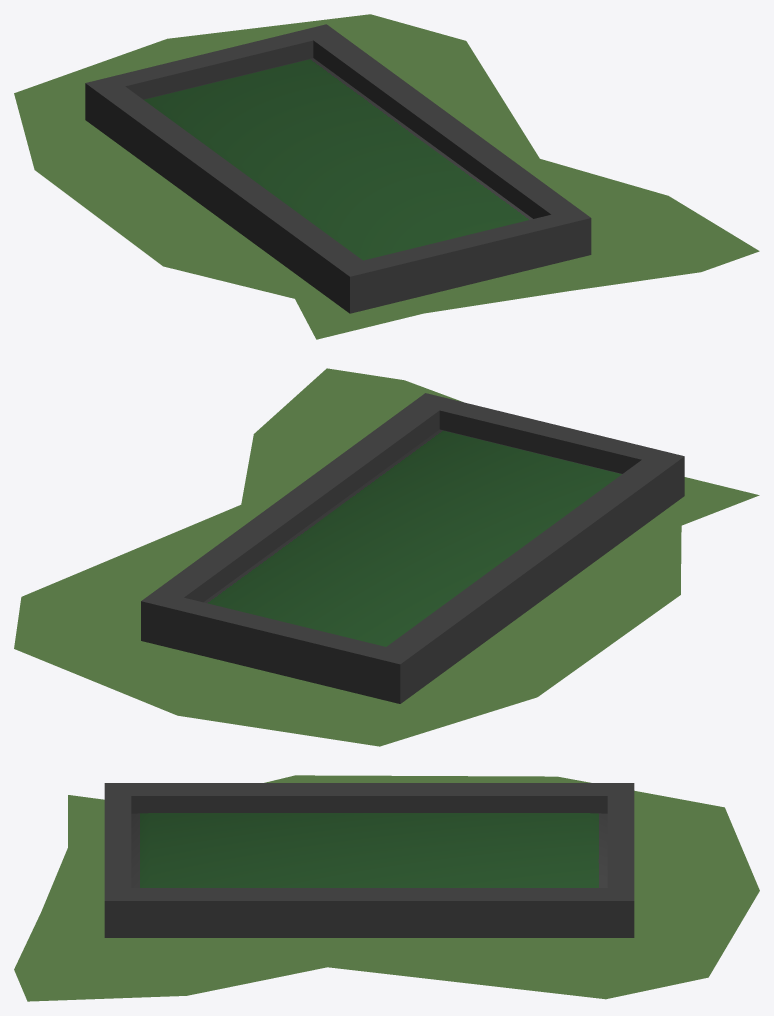
File: Dest_Garden_Grave_Body.FBX
3 renders of one model, top to bottom at view 1: azimuth 30°, elevation 25°; view 2: azimuth 150°, elevation 25°; view 3: azimuth 270°, elevation 25°, orthographic. The views are drawn at different scales.
Visible parts, largest first — view 1: Box006; view 2: Box006; view 3: Box006.
Part boxes in pixels (x1=…): Box006: x1=14, y1=14, x2=759, y2=339; Box006: x1=14, y1=368, x2=759, y2=746; Box006: x1=14, y1=775, x2=759, y2=1001.
Bounding box in the file's own units: 11.15 × 0.9012 × 15.55.
